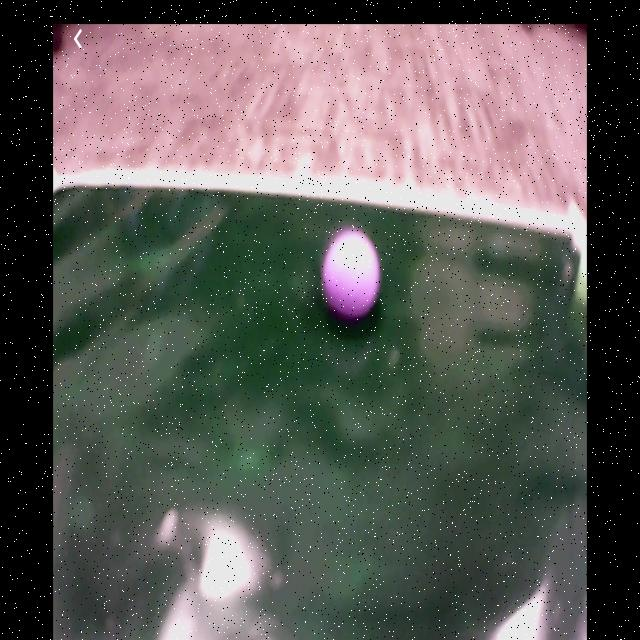ball: (322, 233, 383, 319)
